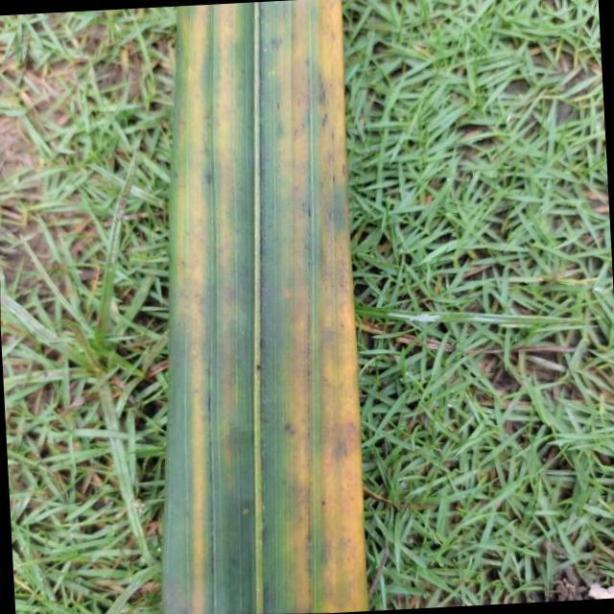Megnesium: (158, 0, 369, 612)
